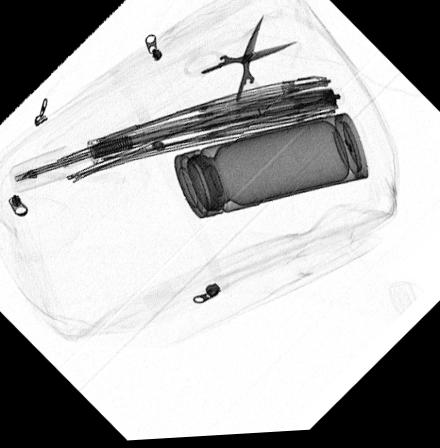Scissors: (184, 16, 298, 115)
